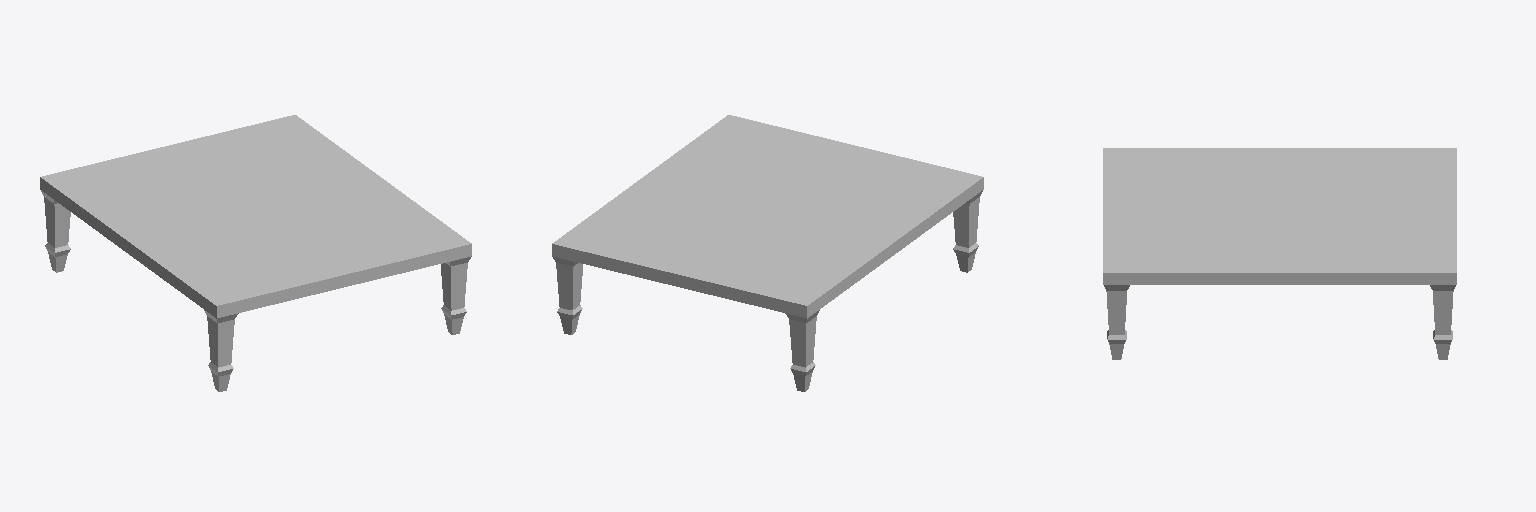
The model's file is bedframe_2.obj.
3 renders of one model, left to right at view 1: azimuth 30°, elevation 25°; view 2: azimuth 150°, elevation 25°; view 3: azimuth 270°, elevation 25°, orthographic.
Bounding box in the file's own units: 21.4 × 7.31 × 25.62.